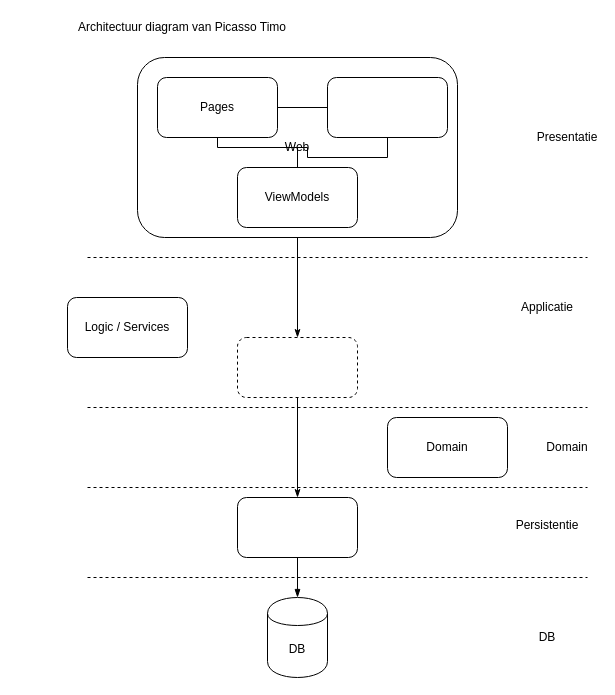
Image size: 615x695. Some labels were removed from this diagram. The shapes that lost their labels are listed below. From the top down, each one's box as (x1, y1, x2, y2) in pixels, then its label:
(326, 76, 448, 138): PageModels
(236, 336, 358, 398): Core (Account.cs)
(236, 496, 358, 558): DataAccess
